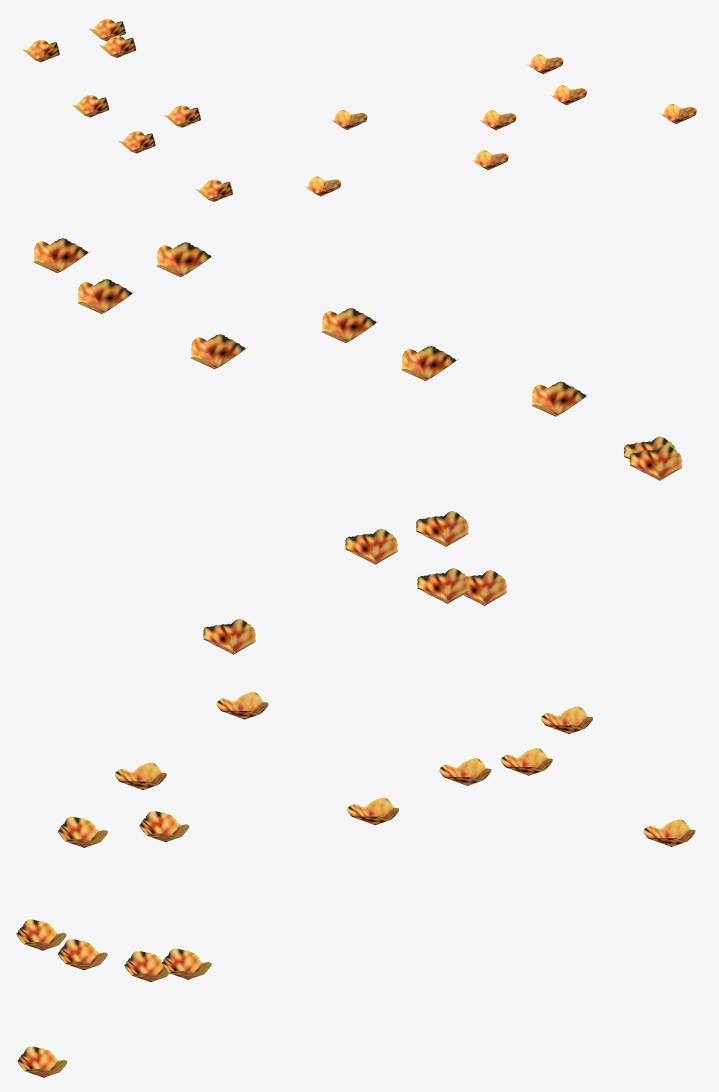
File: xiaohua5.fbx
The picture shows the model from 3 angles, top to bottom: view 1: azimuth 30°, elevation 25°; view 2: azimuth 150°, elevation 25°; view 3: azimuth 270°, elevation 25°; orthographic projection. The views are drawn at different scales.
Parts seen in each view (by area): view 1: xiaohua5; view 2: xiaohua5; view 3: xiaohua5.
Part boxes in pixels (x1,y1,x2,y2): xiaohua5: (23,19,696,201); xiaohua5: (33,238,681,654); xiaohua5: (16,692,695,1077).
Size of the model in its own units: 395 by 35.37 by 338.
Materials: 1 (1 with a texture image).
